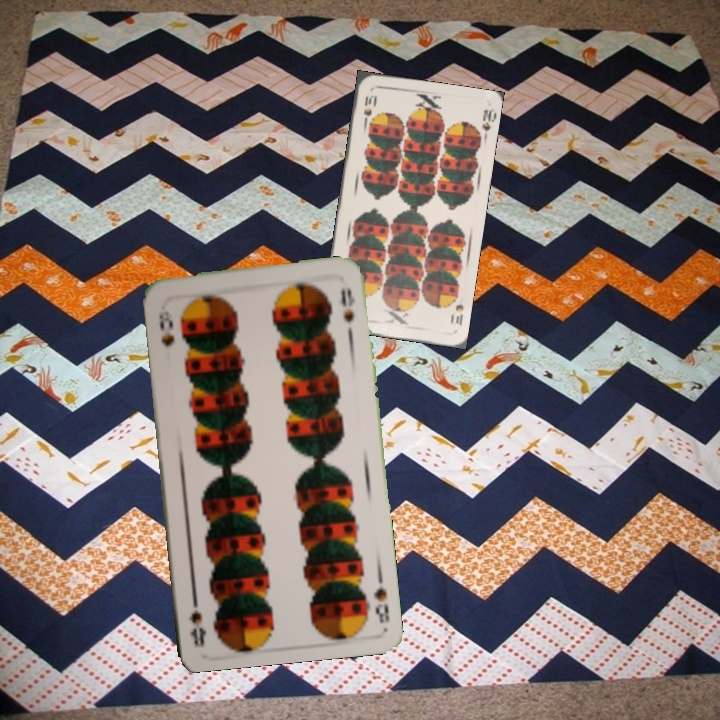S10: (359, 91, 377, 127), (451, 300, 466, 328)
S8: (370, 582, 392, 626), (154, 307, 177, 349)
